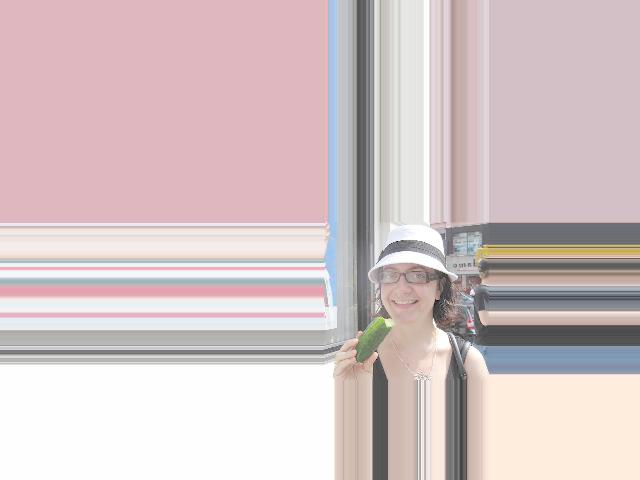cucumber: (353, 317, 394, 362)
